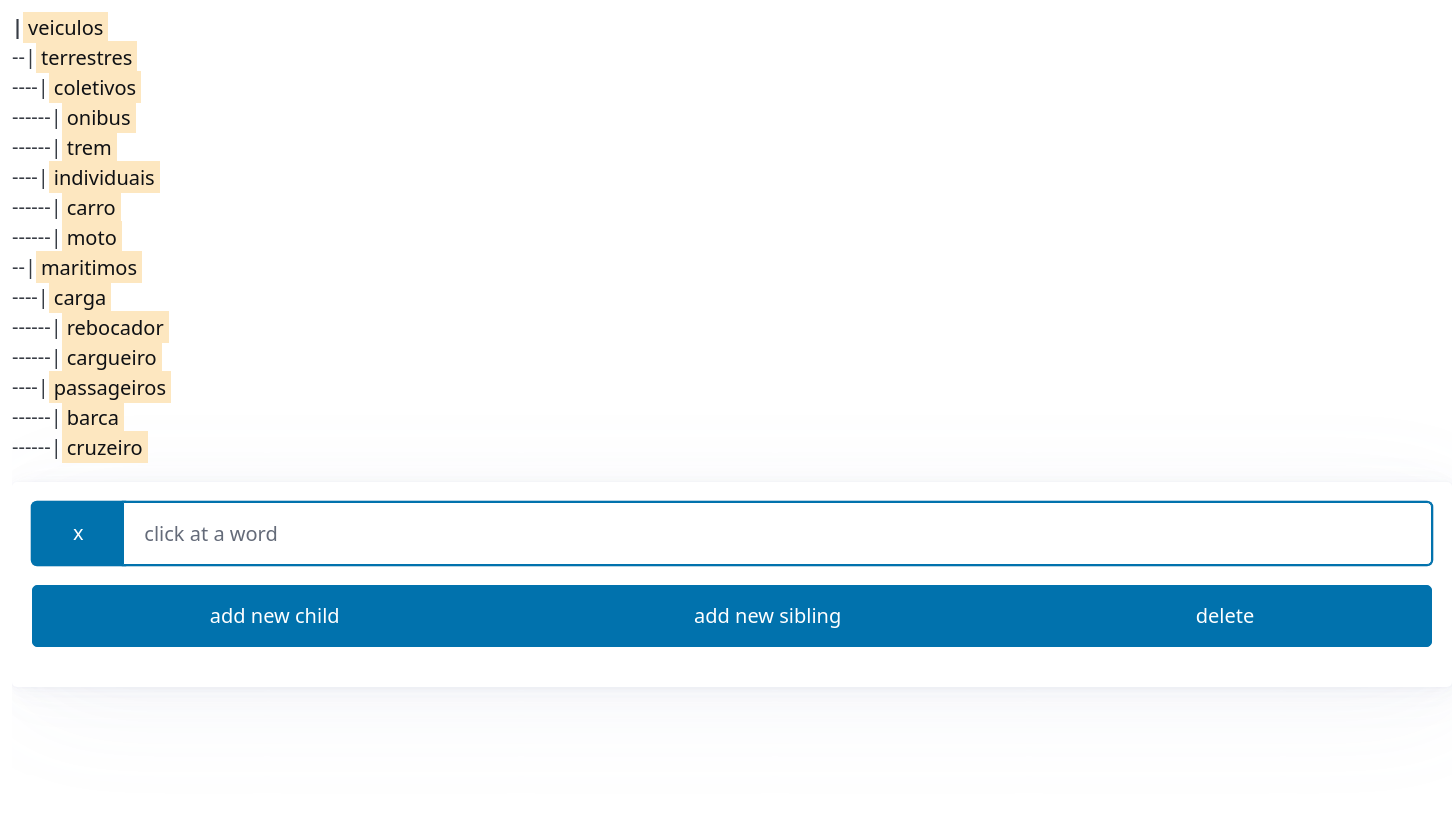
allows puting keys at focus
The image size is (1452, 822).
Click the text "terrestres".
click(87, 56)  # box 36,40 -> 137,72
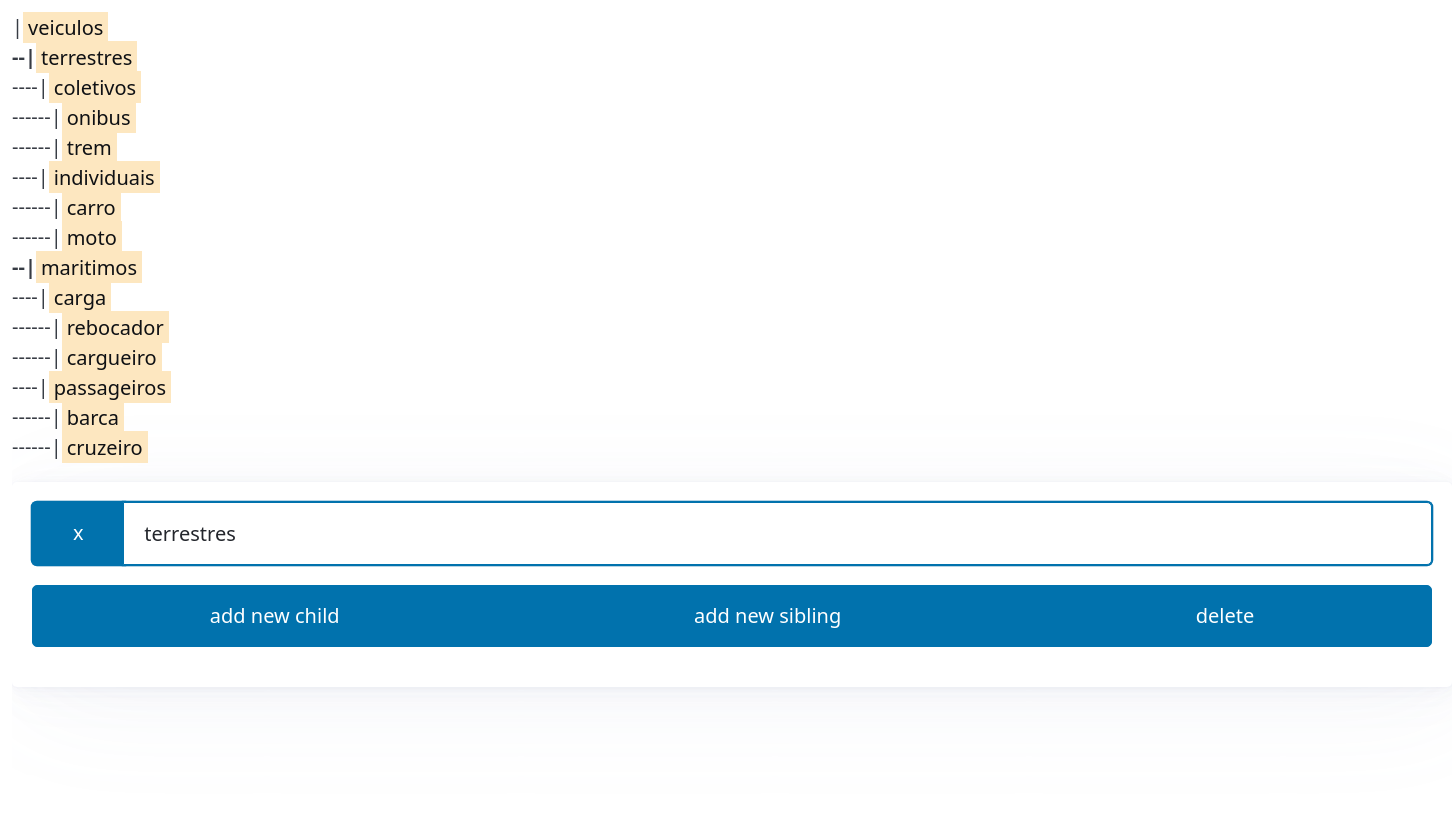
Expected: the field with placeholder "click at a word" holds "terrestres", 123,502 -> 1432,564
Click the text "trem".
click(89, 146)  # box 62,130 -> 117,162
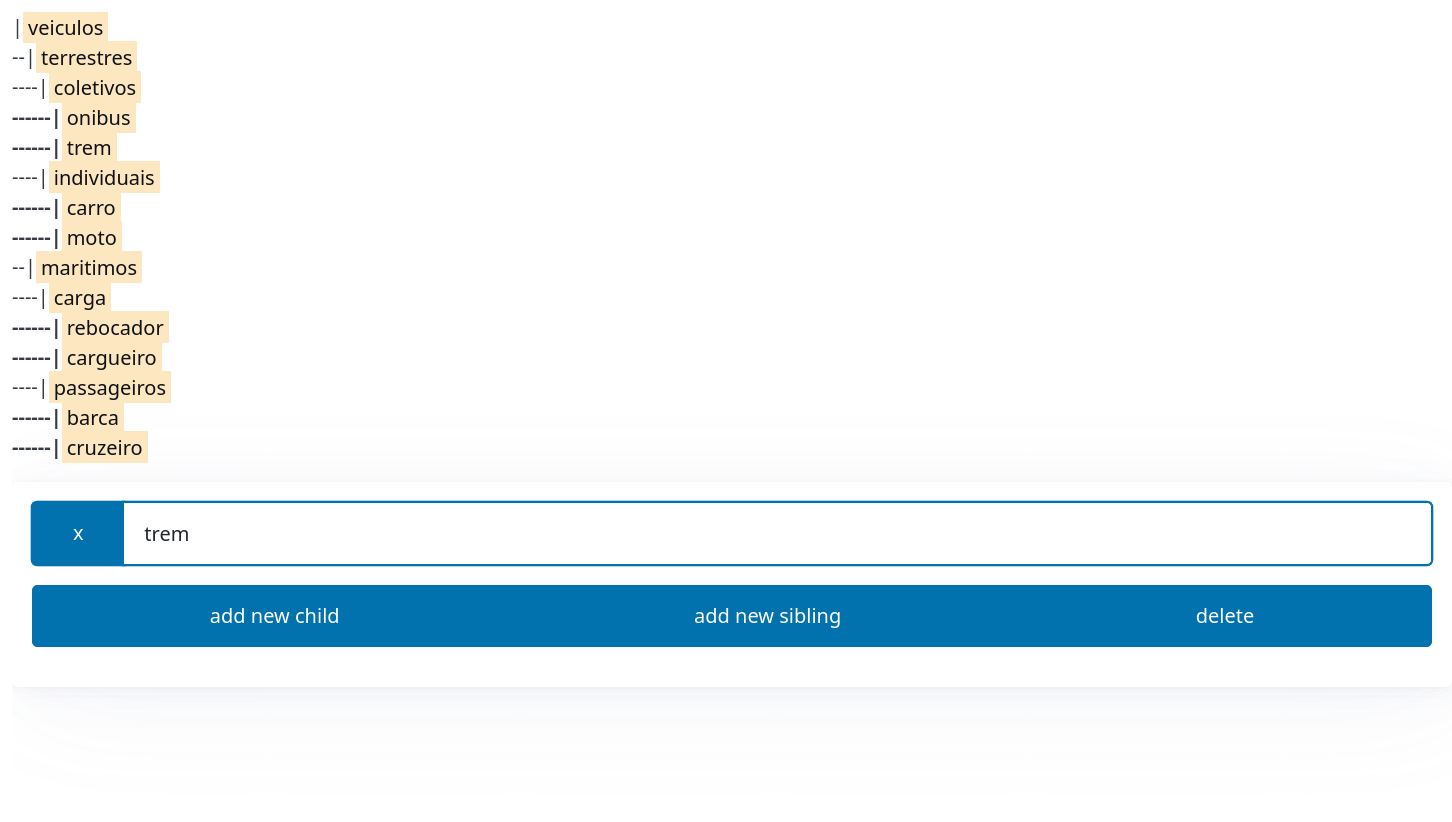
Expected: the field with placeholder "click at a word" holds "trem", 123,502 -> 1432,564
